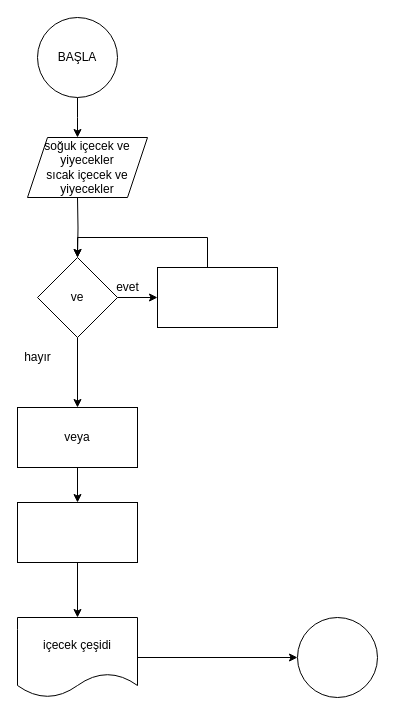
Image size: 395x715. Some labels were removed from this diagram. The shapes that lost their labels are listed below. From the top down, each one's centre as x and y in pixels, then its label:
At point 217,297: "içecek*yiyecek".
At point 77,532: "22-((içecek*yiyecek) +(içecek*yiyecek))".
At point 337,657: "DUR".
